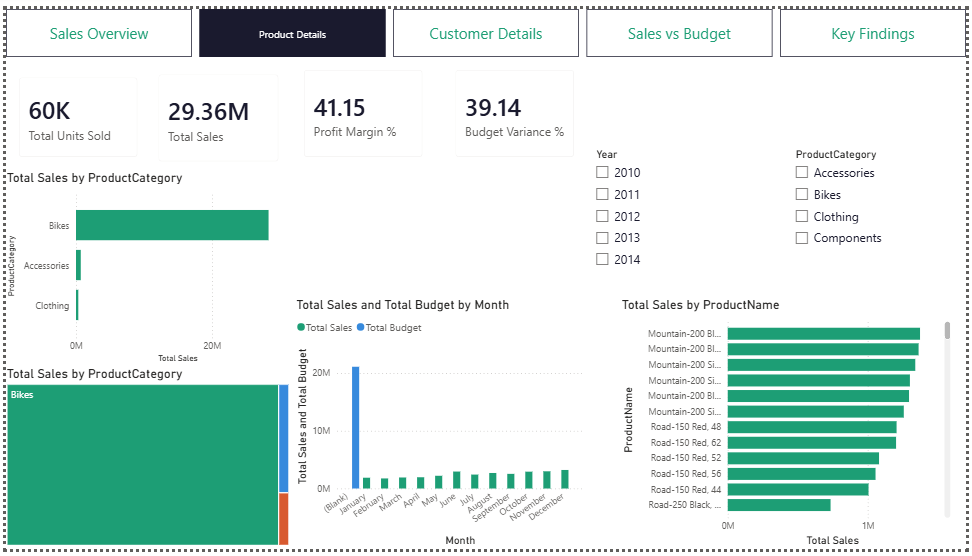

The dashboard page shown, as its layout file describes it:
{"tool":"powerbi","page":{"name":"Product Details","canvas":[1280,720],"ordinal":1},"visuals":[{"type":"cardVisual","fields":{"Data":["_Measures.Total Units Sold"]},"box":[0,74,192,140],"z":0},{"type":"cardVisual","fields":{"Data":["_Measures.Total Sales"]},"box":[186,70,194,150],"z":1000},{"type":"cardVisual","fields":{"Data":["_Measures.Profit Margin %"]},"box":[380,64,192,150],"z":2000},{"type":"cardVisual","fields":{"Data":["_Measures.Budget Variance %"]},"box":[582,64,192,150],"z":3000},{"type":"clusteredBarChart","fields":{"Category":["DIM_Product.ProductCategory","DIM_Product.ProductSubcategory"],"Y":["_Measures.Total Sales"]},"box":[-4,214,386,262],"z":4000},{"type":"clusteredColumnChart","fields":{"Y":["_Measures.Total Sales","_Measures.Total Budget"],"Category":["DIM_Calendar.Month"]},"box":[382,384,392,336],"z":5000},{"type":"clusteredBarChart","fields":{"Category":["DIM_Product.ProductName"],"Y":["_Measures.Total Sales"]},"box":[816,384,448,336],"z":6000},{"type":"treemap","fields":{"Values":["_Measures.Total Sales"],"Group":["DIM_Product.ProductCategory"]},"box":[-4.2,476.4,385.5,243.8],"z":7000},{"type":"slicer","fields":{"Values":["DIM_Calendar.Year"]},"box":[774,180,242,180],"z":8000},{"type":"slicer","fields":{"Values":["DIM_Product.ProductCategory"]},"box":[1040,180,192,180],"z":9000},{"type":"pageNavigator","box":[0,0,1280,64],"z":9001}]}

Visuals, with their boxes in screenshot pixels (x1, y1, x2, y2), scaled from the page's 1280x720 canvas onto the 972x556 screenshot:
cardVisual - _Measures.Total Units Sold: rect(0, 57, 146, 165)
cardVisual - _Measures.Total Sales: rect(141, 54, 289, 170)
cardVisual - _Measures.Profit Margin %: rect(289, 49, 434, 165)
cardVisual - _Measures.Budget Variance %: rect(442, 49, 588, 165)
clusteredBarChart - DIM_Product.ProductCategory x DIM_Product.ProductSubcategory: rect(0, 165, 290, 368)
clusteredColumnChart - _Measures.Total Sales x _Measures.Total Budget: rect(290, 297, 588, 555)
clusteredBarChart - DIM_Product.ProductName x _Measures.Total Sales: rect(620, 297, 960, 555)
treemap - _Measures.Total Sales x DIM_Product.ProductCategory: rect(0, 368, 290, 555)
slicer - DIM_Calendar.Year: rect(588, 139, 772, 278)
slicer - DIM_Product.ProductCategory: rect(790, 139, 936, 278)
pageNavigator: rect(0, 0, 971, 49)
